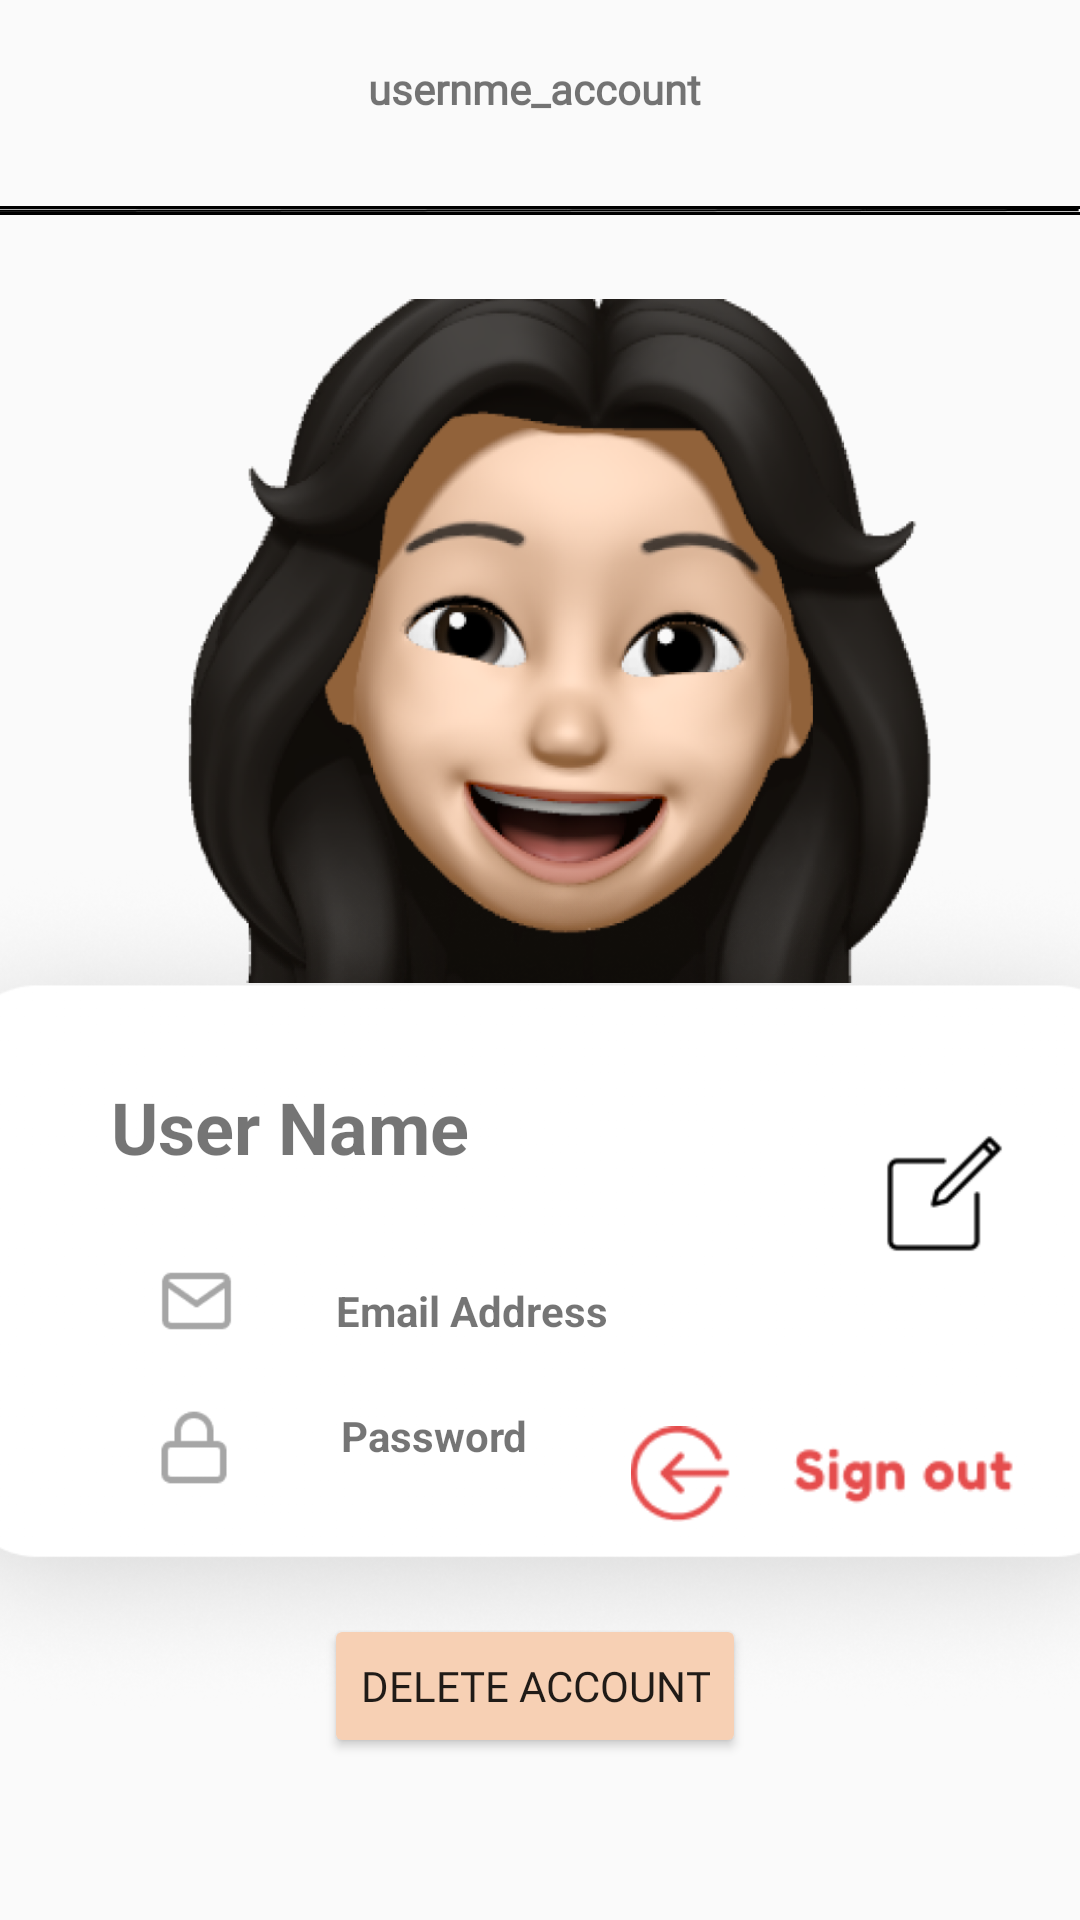

Named icons in this screenshot (1080w x 1920h) and their bounding boxes, (x1, y1, x2, y2):
editprofile: (887, 1136, 1002, 1251)
